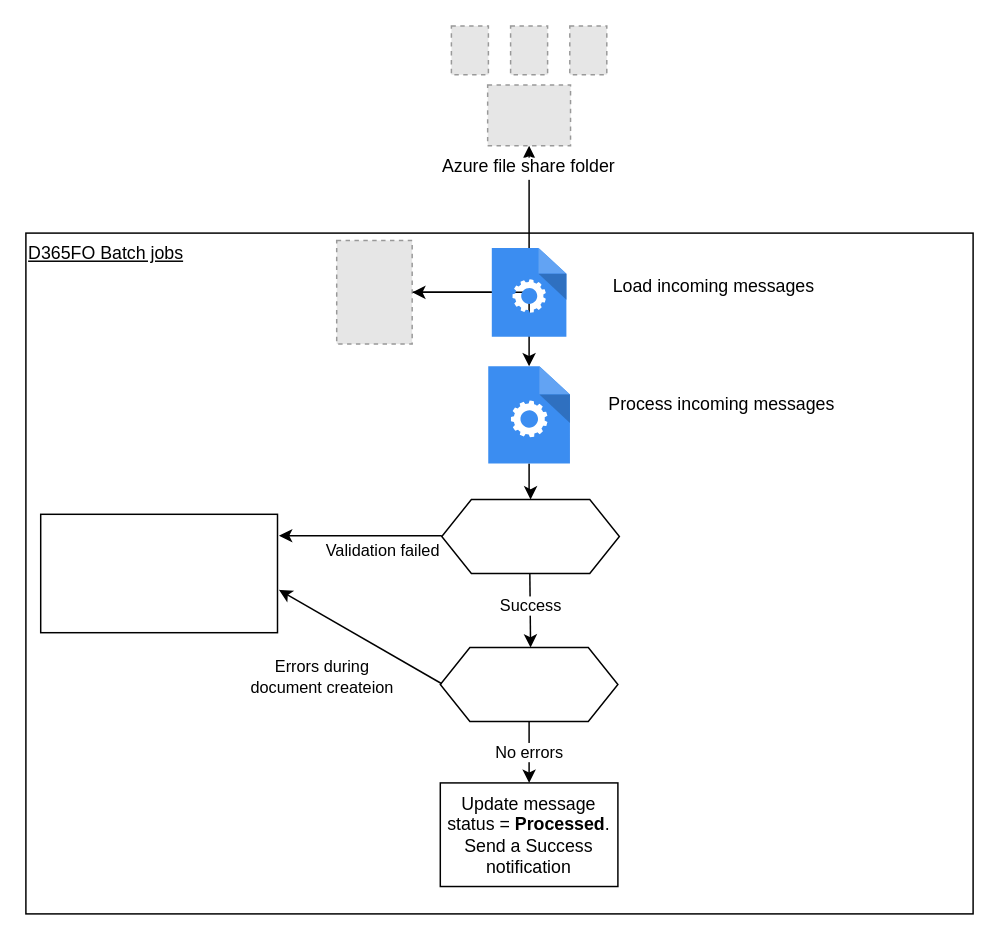
Some shapes in this 999 by 940 pixel diagram are drawn without their labels. Grey dashed boxes stand in for pictures. The shapes that lost their labels are listed below. From the top down, each one's box as (x1, y1, x2, y2) in pixels, then its label:
(440, 498, 619, 574): Perform data validation
(39, 513, 278, 633): Write error text to Log Set message status = Error
(439, 646, 618, 722): Create D365FO document
